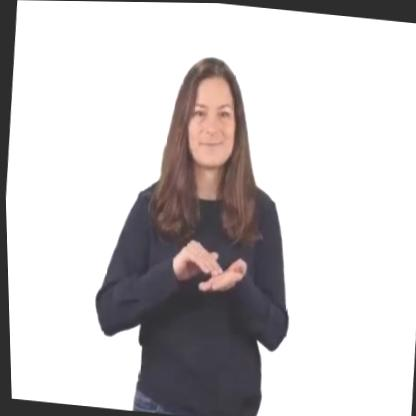ExcuseMe: (161, 222, 252, 301)
